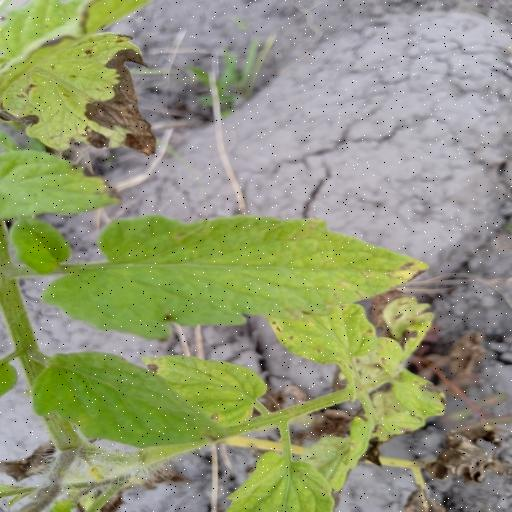Tomato_Brown_Spots: (42, 212, 432, 341), (30, 350, 227, 452)
